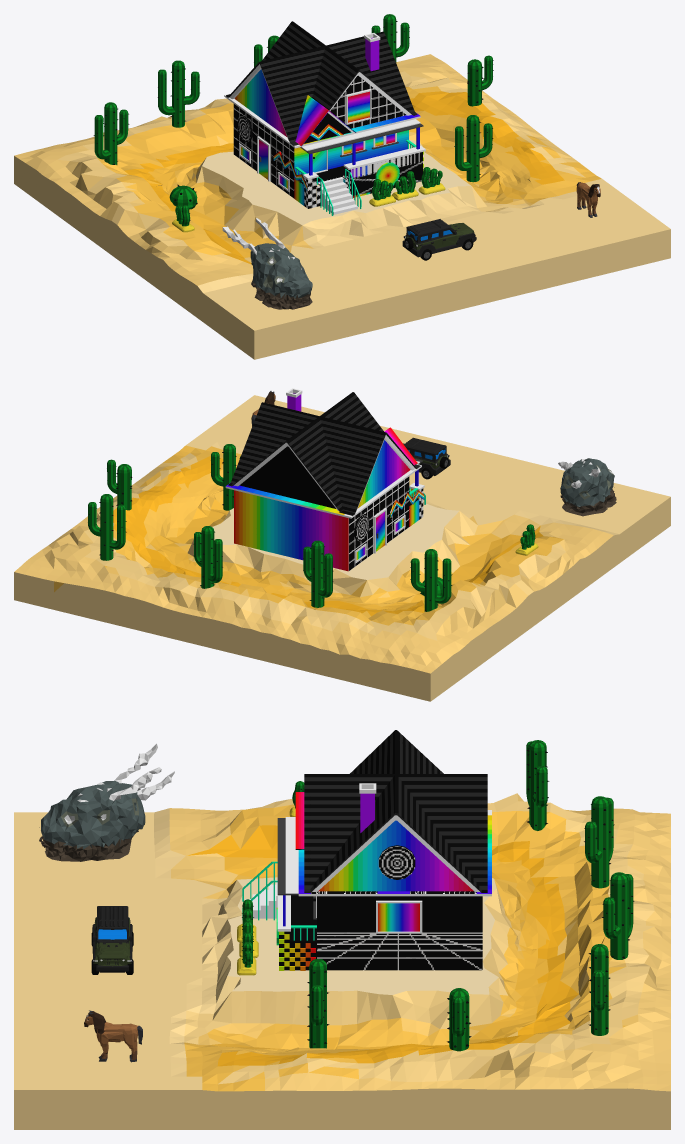
The picture shows the model from 3 angles, top to bottom: view 1: azimuth 30°, elevation 25°; view 2: azimuth 150°, elevation 25°; view 3: azimuth 270°, elevation 25°; orthographic projection. The views are drawn at different scales.
Visible parts, largest first — view 1: Cube.001, Cube.1320, OBJRANDOM_METEORITE, VEHICLES_JEEP, Cylinder.037, Cylinder.044, Cylinder.045, Cylinder.038, Cylinder.042, ANIMAL_CABALLO, Cylinder.039, Cylinder.041 (+2 smaller); view 2: Cube.001, Cube.1320, OBJRANDOM_METEORITE, Cylinder.042, Cylinder.045, Cylinder.044, Cylinder.043, VEHICLES_JEEP, Cylinder.037, Cylinder.038; view 3: Cube.001, Cube.1320, OBJRANDOM_METEORITE, VEHICLES_JEEP, Cylinder.043, Cylinder.044, Cylinder.045, Cylinder.042, Cylinder.037, ANIMAL_CABALLO, Cylinder.038, Cylinder.041.
Part boxes in pixels (x1,y1,x2,y2): Cube.001: [14, 54, 670, 359]; Cube.1320: [224, 21, 425, 215]; OBJRANDOM_METEORITE: [222, 218, 312, 309]; VEHICLES_JEEP: [402, 219, 476, 260]; Cylinder.037: [454, 115, 493, 182]; Cylinder.044: [157, 60, 200, 127]; Cylinder.045: [93, 102, 129, 164]; Cylinder.038: [467, 55, 493, 106]; Cylinder.042: [371, 14, 409, 62]; ANIMAL_CABALLO: [576, 182, 600, 217]; Cylinder.039: [369, 179, 395, 206]; Cylinder.041: [418, 167, 445, 194]; Cube.001: [14, 395, 670, 701]; Cube.1320: [225, 388, 425, 571]; OBJRANDOM_METEORITE: [558, 458, 616, 516]; Cylinder.042: [88, 494, 126, 560]; Cylinder.045: [410, 549, 452, 611]; Cylinder.044: [303, 540, 333, 607]; Cylinder.043: [193, 526, 222, 588]; VEHICLES_JEEP: [403, 437, 450, 479]; Cylinder.037: [211, 444, 240, 510]; Cylinder.038: [107, 459, 132, 510]; Cube.001: [14, 793, 670, 1129]; Cube.1320: [242, 730, 491, 970]; OBJRANDOM_METEORITE: [39, 743, 174, 861]; VEHICLES_JEEP: [91, 906, 133, 974]; Cylinder.043: [602, 872, 634, 959]; Cylinder.044: [584, 796, 614, 888]; Cylinder.045: [526, 740, 549, 830]; Cylinder.042: [588, 944, 610, 1035]; Cylinder.037: [307, 959, 329, 1048]; ANIMAL_CABALLO: [84, 1010, 142, 1062]; Cylinder.038: [447, 988, 471, 1051]; Cylinder.041: [237, 932, 256, 975].
Size of the model in its own units: 4002 by 1650 by 4001.
31 materials, 5 textured.
